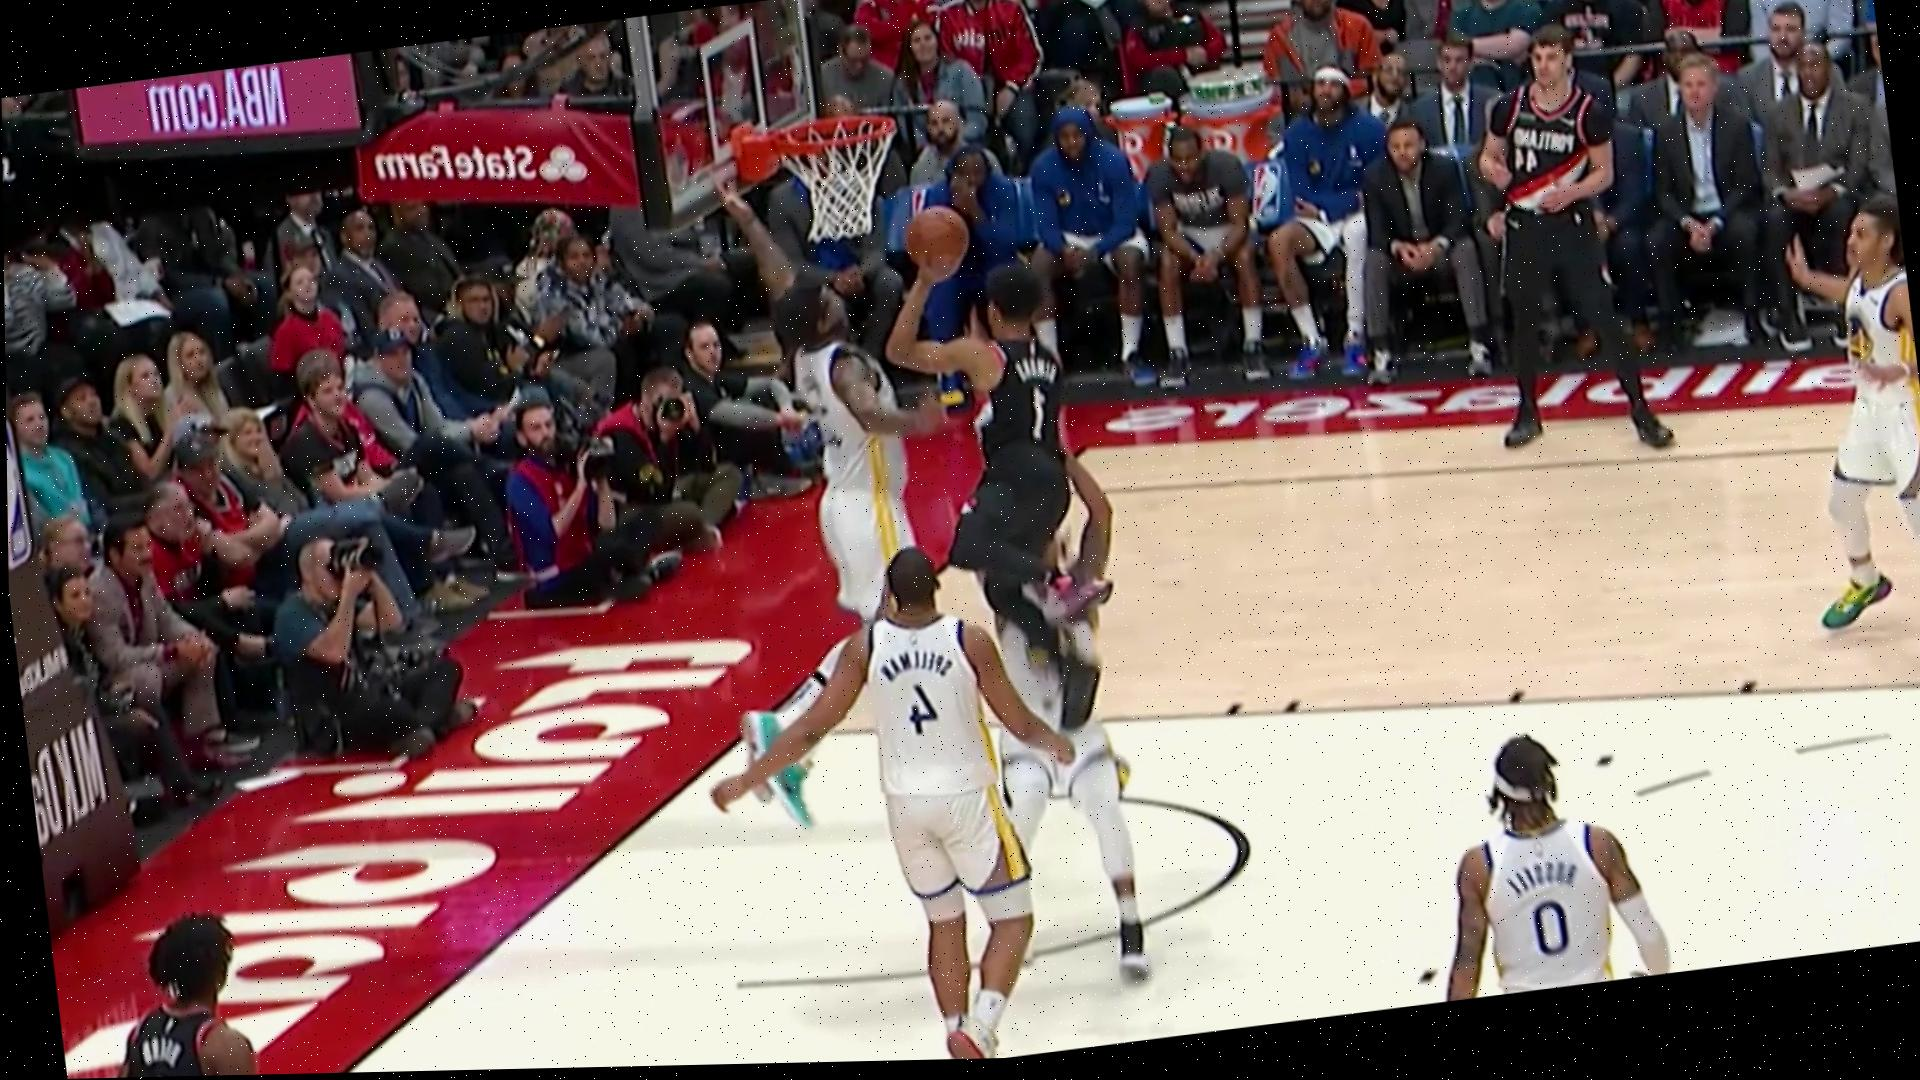foul: (957, 262, 1159, 943)
